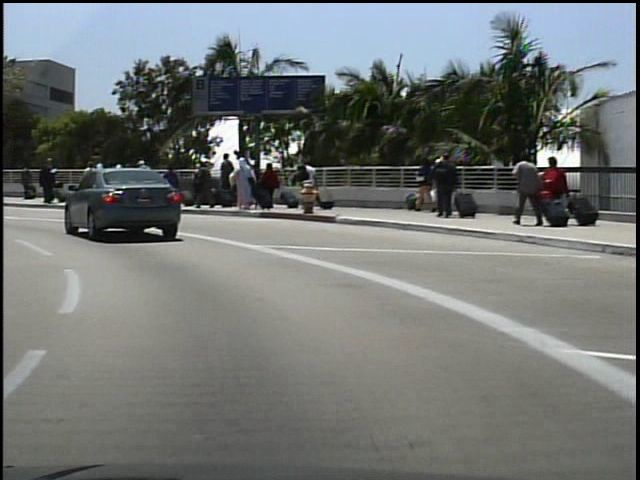person: (509, 150, 540, 226), (538, 152, 569, 225), (425, 152, 456, 219), (296, 155, 321, 205), (37, 156, 60, 210), (38, 155, 59, 205), (18, 163, 34, 202)
